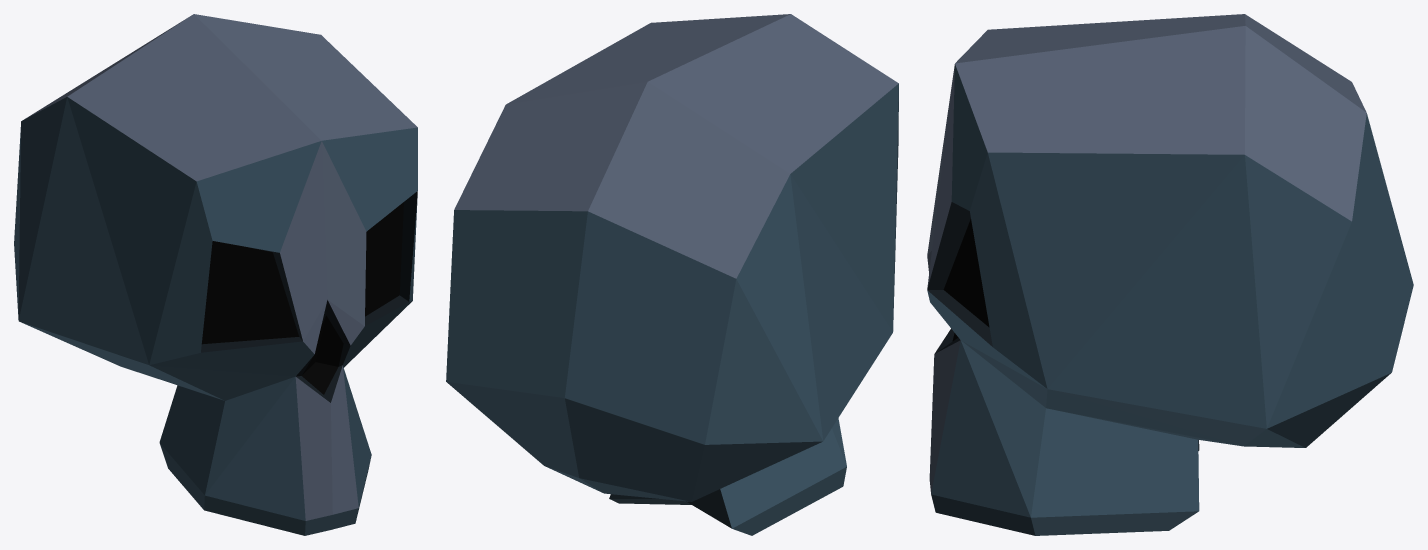
Rendered from Skull_Icon.fbx.
3 renders of one model, left to right at view 1: azimuth 30°, elevation 25°; view 2: azimuth 150°, elevation 25°; view 3: azimuth 270°, elevation 25°, orthographic. The views are drawn at different scales.
Parts seen in each view (by area): view 1: SkullIcon; view 2: SkullIcon; view 3: SkullIcon.
Boxes of the visible parts, left/top/right/bottom form: SkullIcon: left=14, top=14, right=417, bottom=535; SkullIcon: left=446, top=14, right=898, bottom=535; SkullIcon: left=927, top=14, right=1413, bottom=535.
Bounding box in the file's own units: 103 × 123 × 115.
